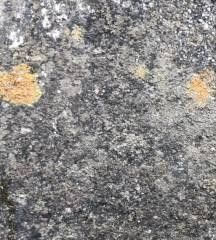Corrosion: (1, 63, 43, 107), (183, 68, 216, 110)
